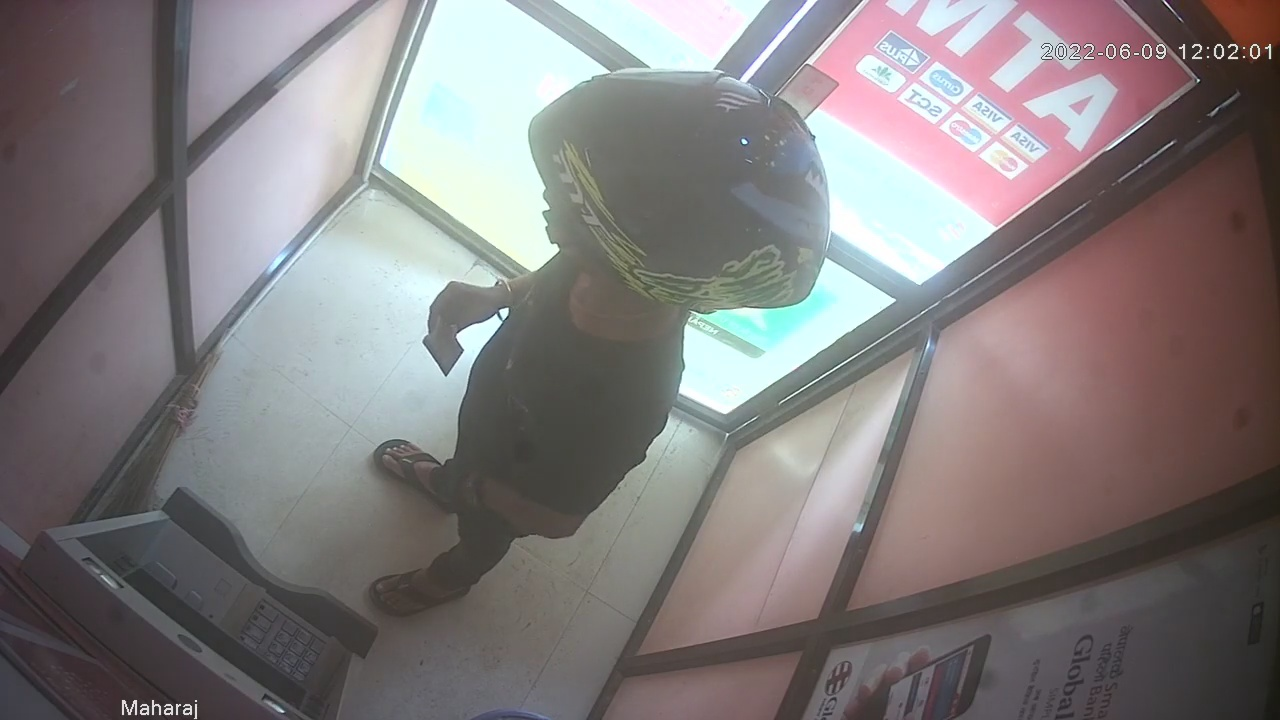helmet: (527, 65, 830, 315)
person: (370, 65, 831, 615)
